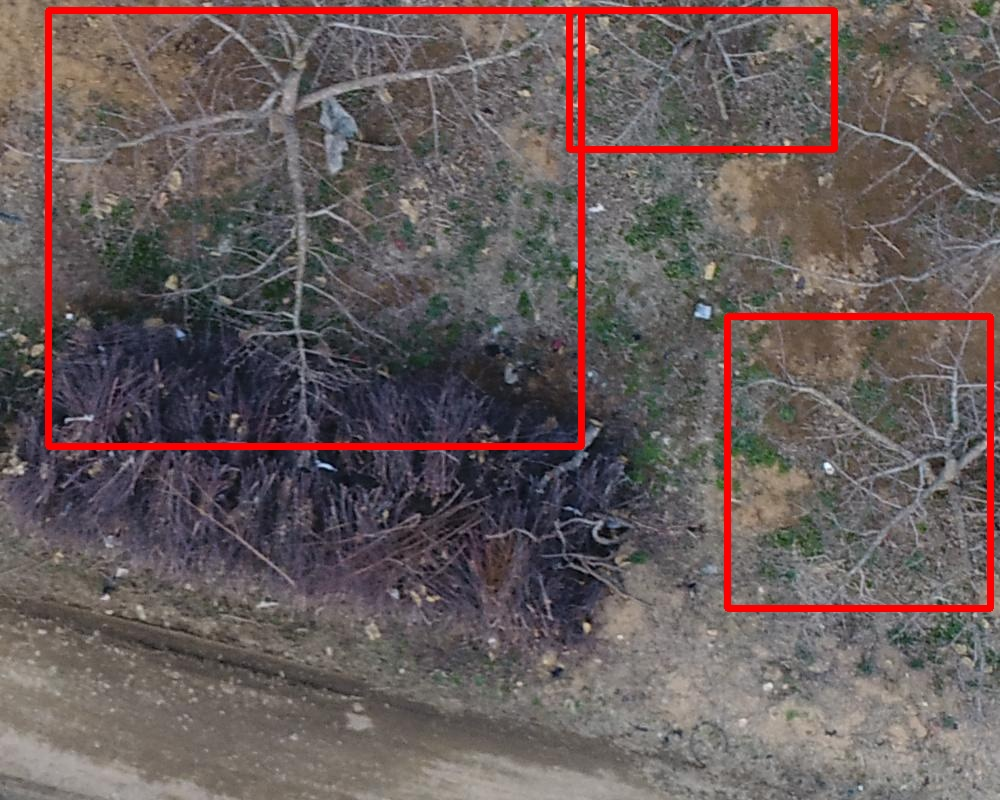apple: (48, 10, 581, 446), (727, 316, 990, 608), (569, 10, 834, 149)
